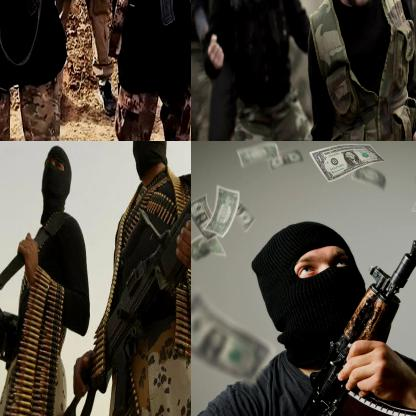rifle: (62, 141, 190, 415), (279, 239, 415, 415), (0, 205, 21, 365)
